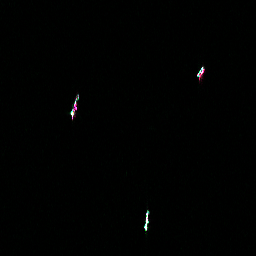ship: (67, 96, 80, 118), (141, 209, 151, 231), (194, 64, 207, 80)
